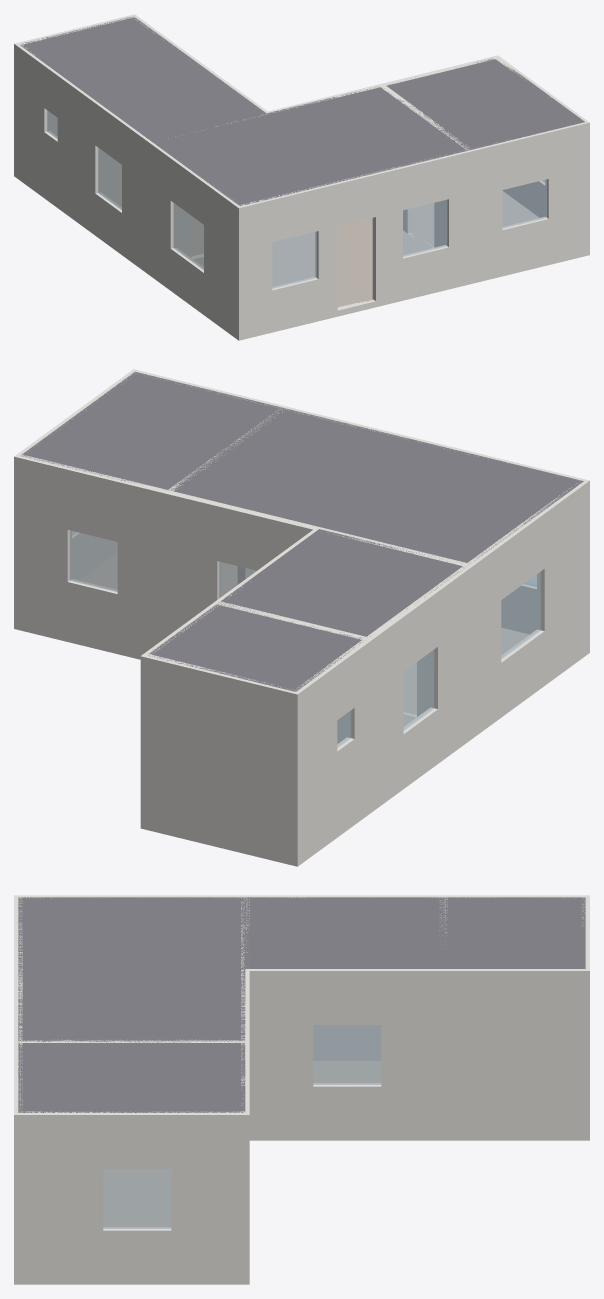
File: lshape.glb
3 renders of one model, top to bottom at view 1: azimuth 30°, elevation 25°; view 2: azimuth 150°, elevation 25°; view 3: azimuth 270°, elevation 25°, orthographic. The views are drawn at different scales.
Visible parts, largest first — view 1: f0_wall_h_0_0, f0_wall_v_0_0, f0_roof_living, f0_roof_kitchen, f0_roof_bed1, f0_roof_bath, f0_floor_living, f0_glass.001, f0_glass, f0_wall_h_4_0, f0_glass.002, f0_floor_kitchen (+8 smaller); view 2: f0_wall_v_0_0, f0_wall_h_4_0, f0_roof_living, f0_wall_h_10.0_0, f0_roof_kitchen, f0_roof_bed1, f0_roof_bath, f0_wall_h_0_0, f0_glass.004, f0_glass.005, f0_wall_v_9_0, f0_glass.006 (+5 smaller); view 3: f0_wall_v_3_4, f0_wall_v_9_0, f0_roof_living, f0_roof_kitchen, f0_roof_bed1, f0_roof_bath, f0_wall_v_0_0, f0_glass.008, f0_glass.009, f0_wall_h_0_0, f0_wall_h_4_0, f0_floor_living (+5 smaller).
Boxes of the visible parts, x1,y1,x2,y2 form: f0_wall_h_0_0: (235, 120, 589, 340); f0_wall_v_0_0: (15, 45, 237, 338); f0_roof_living: (151, 86, 469, 206); f0_roof_kitchen: (386, 58, 584, 149); f0_roof_bed1: (74, 56, 266, 141); f0_roof_bath: (20, 16, 188, 84); f0_floor_living: (193, 218, 430, 307); f0_glass.001: (403, 200, 447, 256); f0_glass: (272, 231, 316, 288); f0_wall_h_4_0: (147, 55, 499, 274); f0_glass.002: (502, 179, 547, 228); f0_floor_kitchen: (411, 191, 538, 247); f0_wall_v_0_0: (295, 481, 585, 863); f0_wall_h_4_0: (14, 453, 474, 739); f0_roof_living: (172, 408, 583, 564); f0_wall_h_10.0_0: (140, 653, 301, 866); f0_roof_kitchen: (21, 371, 284, 490); f0_roof_bed1: (219, 529, 465, 637); f0_roof_bath: (148, 603, 363, 691); f0_wall_h_0_0: (129, 369, 589, 655); f0_glass.004: (70, 530, 117, 591); f0_glass.005: (501, 572, 541, 658); f0_wall_v_9_0: (17, 371, 133, 580); f0_glass.006: (403, 649, 434, 730); f0_wall_v_3_4: (245, 969, 585, 1140); f0_wall_v_9_0: (18, 1111, 245, 1284); f0_roof_living: (18, 897, 245, 1040); f0_roof_kitchen: (18, 1041, 245, 1112); f0_roof_bed1: (245, 897, 443, 968); f0_roof_bath: (444, 897, 585, 968); f0_wall_v_0_0: (18, 895, 584, 1060); f0_glass.008: (103, 1169, 171, 1228); f0_glass.009: (313, 1025, 381, 1084); f0_wall_h_0_0: (14, 895, 22, 1284); f0_wall_h_4_0: (241, 895, 249, 1284); f0_floor_living: (103, 1169, 171, 1202).
Bounding box in the file's own units: 9.15 × 3.3 × 10.15.
